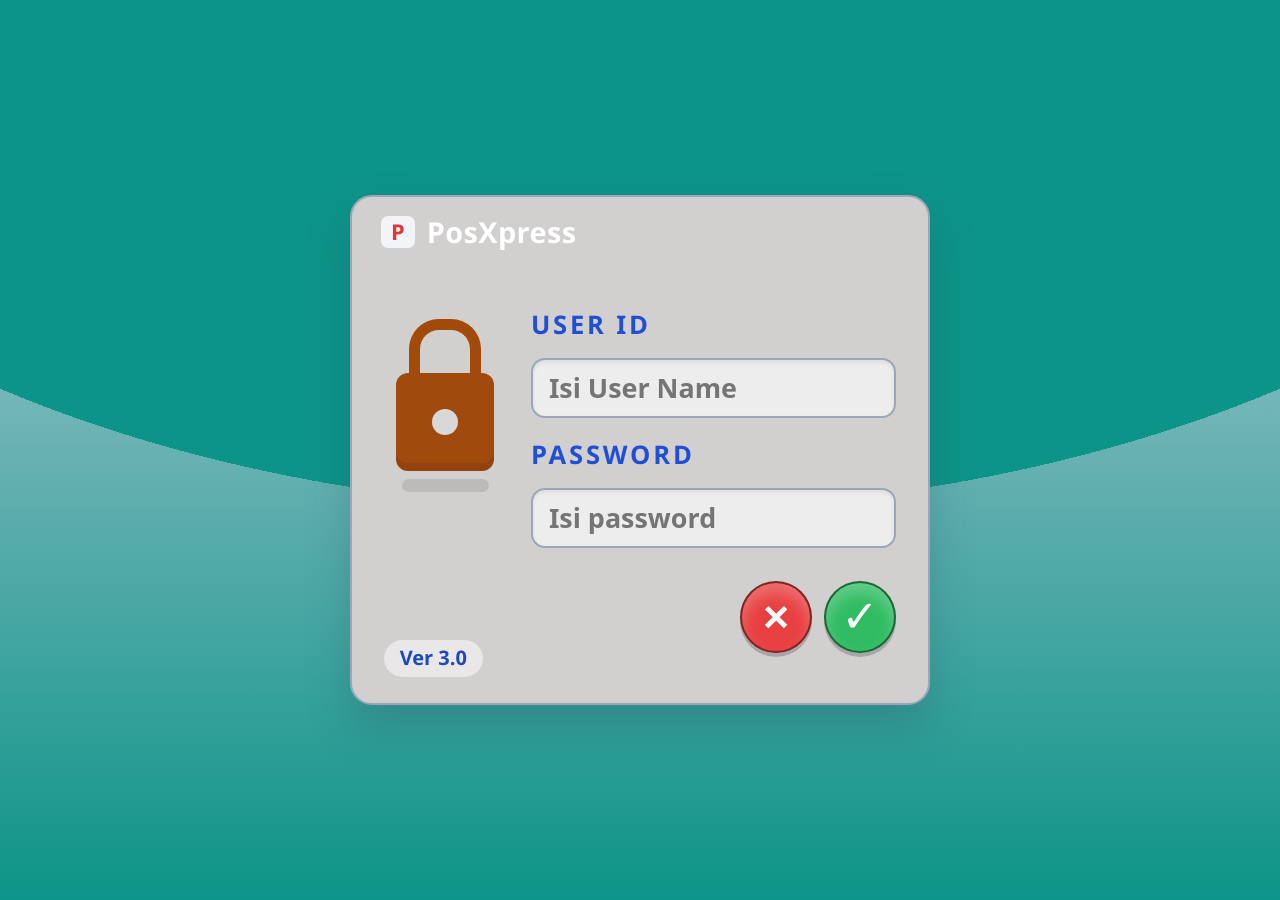
Test: App › opens dashboard when login berhasil
This screenshot has width=1280, height=900.
In the field labelled "USER ID": (713, 388) top-left (531, 358), bottom-right (896, 418), type "admin"
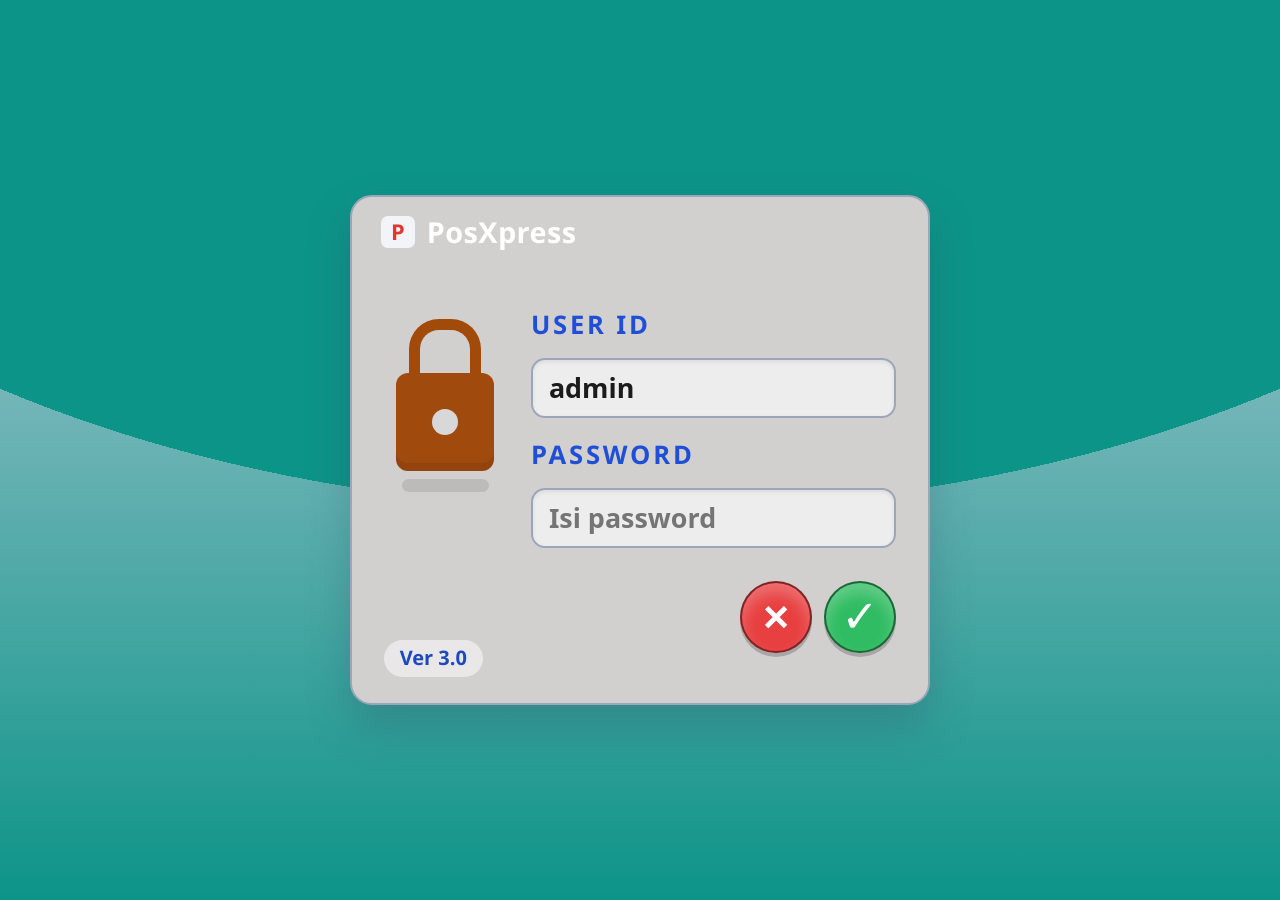
In the password field labelled "PASSWORD": (713, 518) top-left (531, 488), bottom-right (896, 548), type "123456"
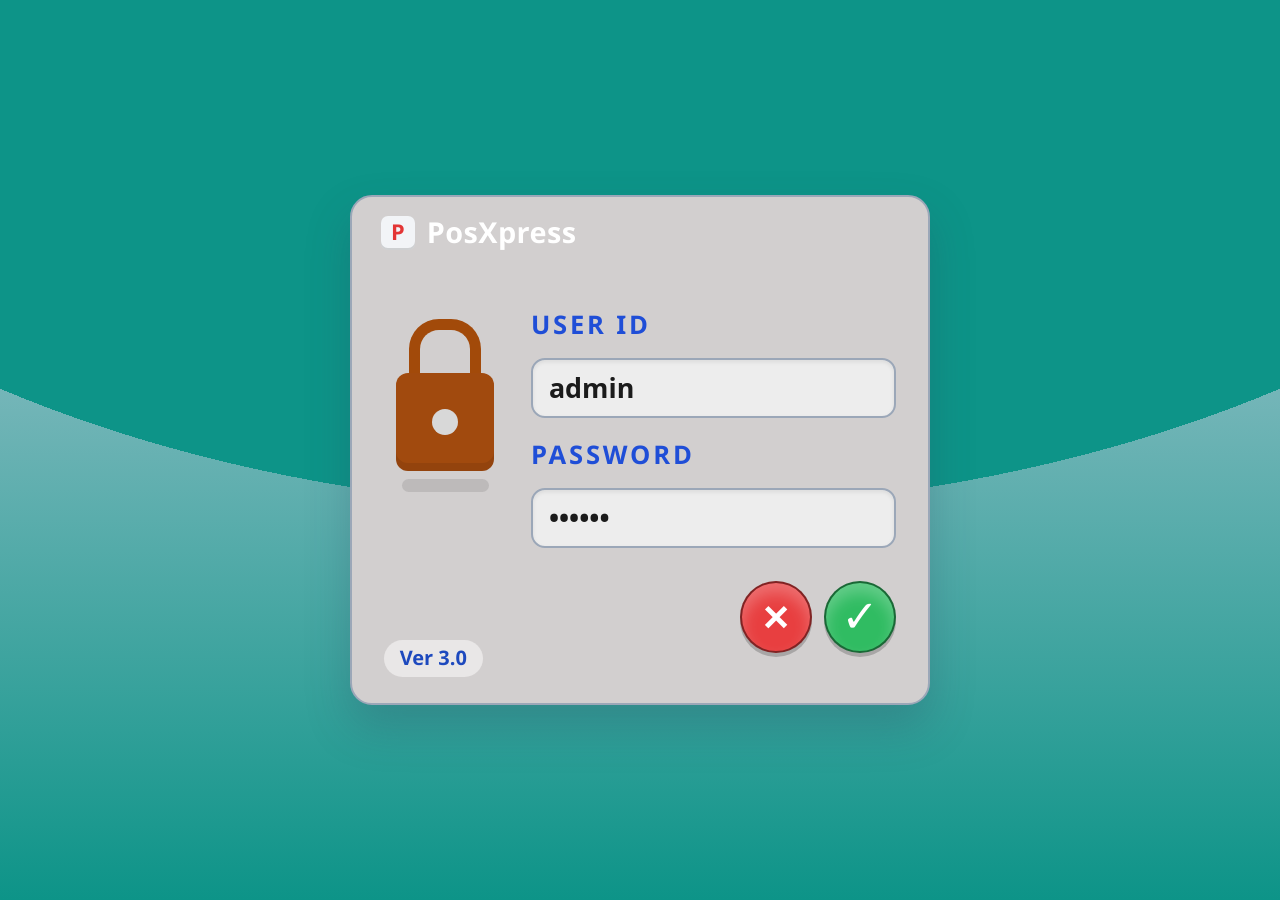
Click the button named "Masuk": (860, 617) top-left (824, 581), bottom-right (896, 653)
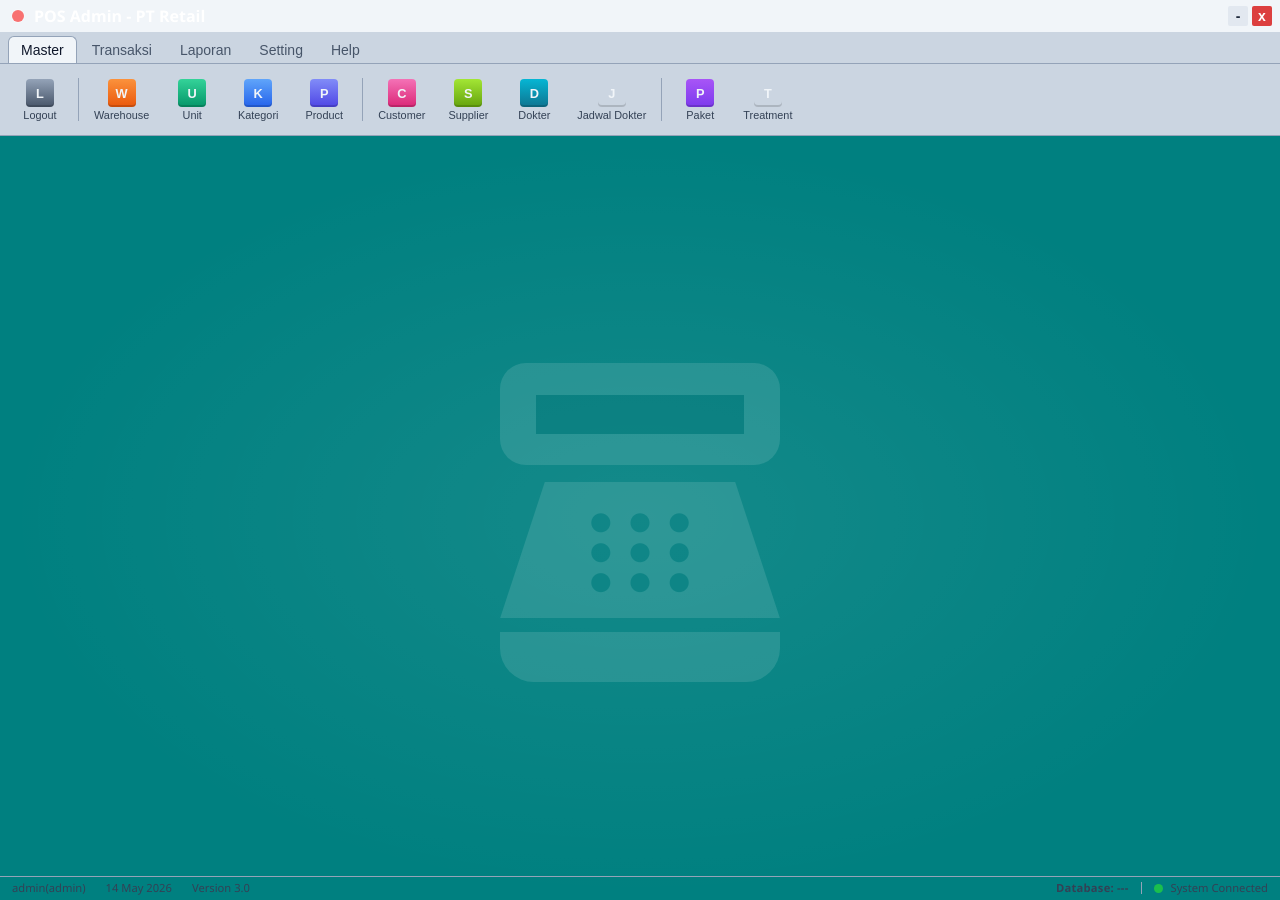
Check: the element named "POS Admin Menu Dashboard" is shown
Check: the text "System Connected" is shown, box top-left (1170, 881), bottom-right (1268, 896)
